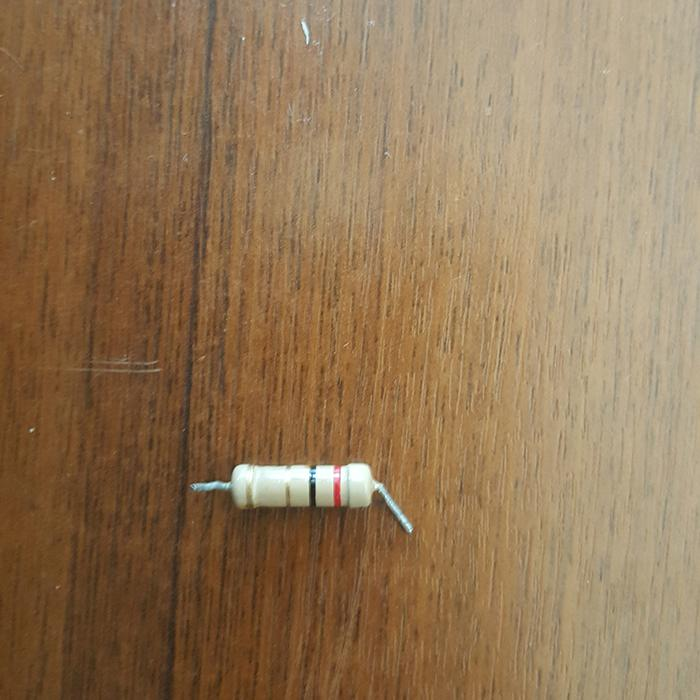resistor: (221, 461, 371, 509)
